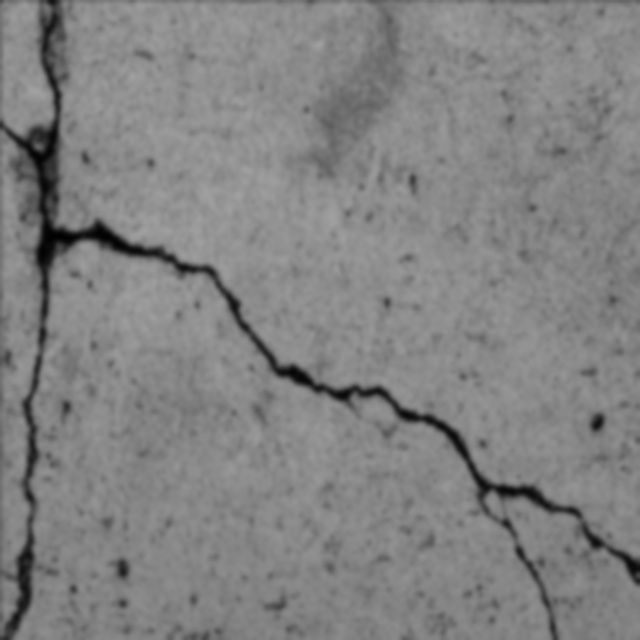SurfaceCrack: (7, 30, 639, 638)
